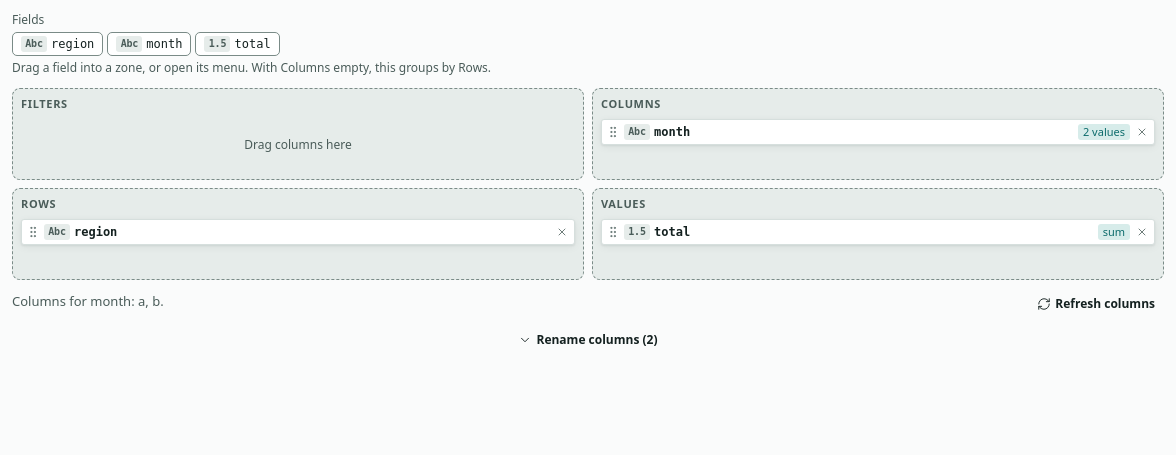
Scenario: PivotEditor › refresh says what changed, and warns when there were more values than can be columns
The width and height of the screenshot is (1176, 455).
Step 1. Click the button "Refresh columns" → (1096, 304), box [1028, 292, 1164, 316]
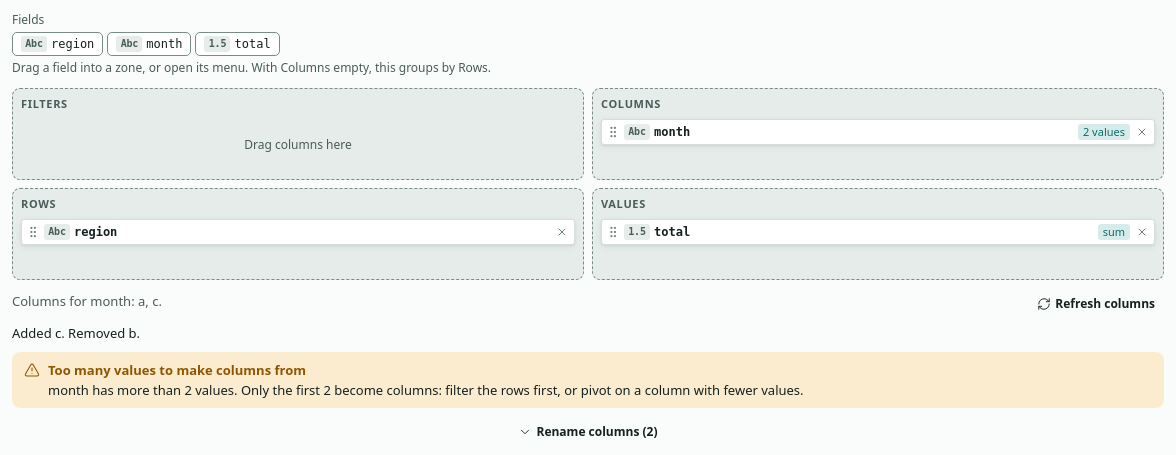
expect the text "Too many values to make columns from" is shown: met, box [48, 360, 306, 378]
